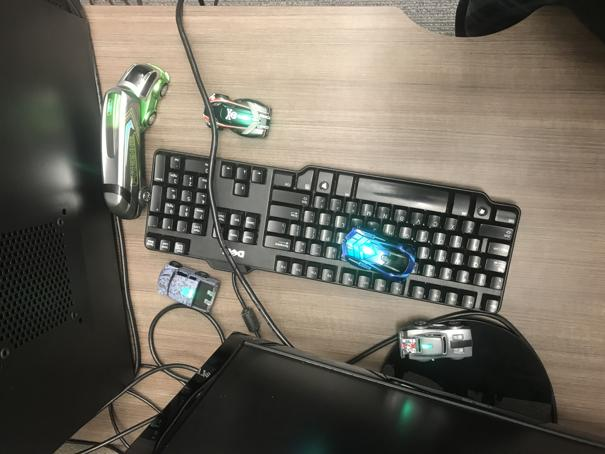Charger: (396, 318, 476, 364)
Freewheel: (99, 60, 172, 220)
MXT: (157, 261, 223, 316)
Shock: (341, 226, 418, 279)
Skull: (204, 84, 274, 140)
